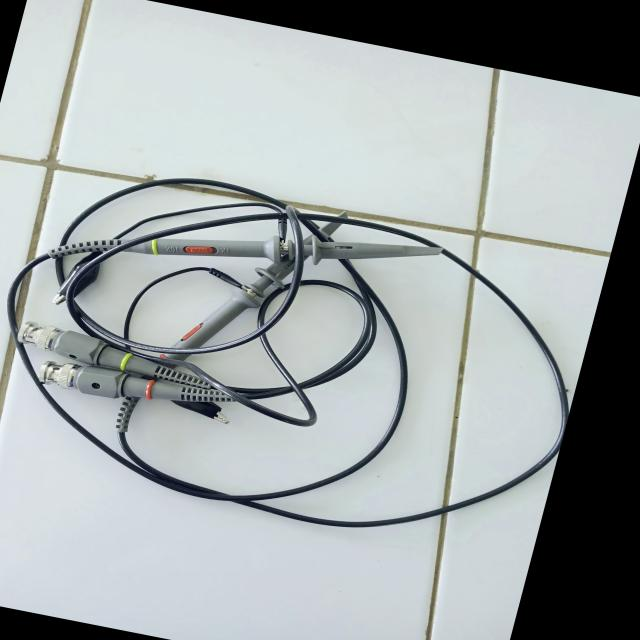CRO Probes: (0, 134, 614, 581)
